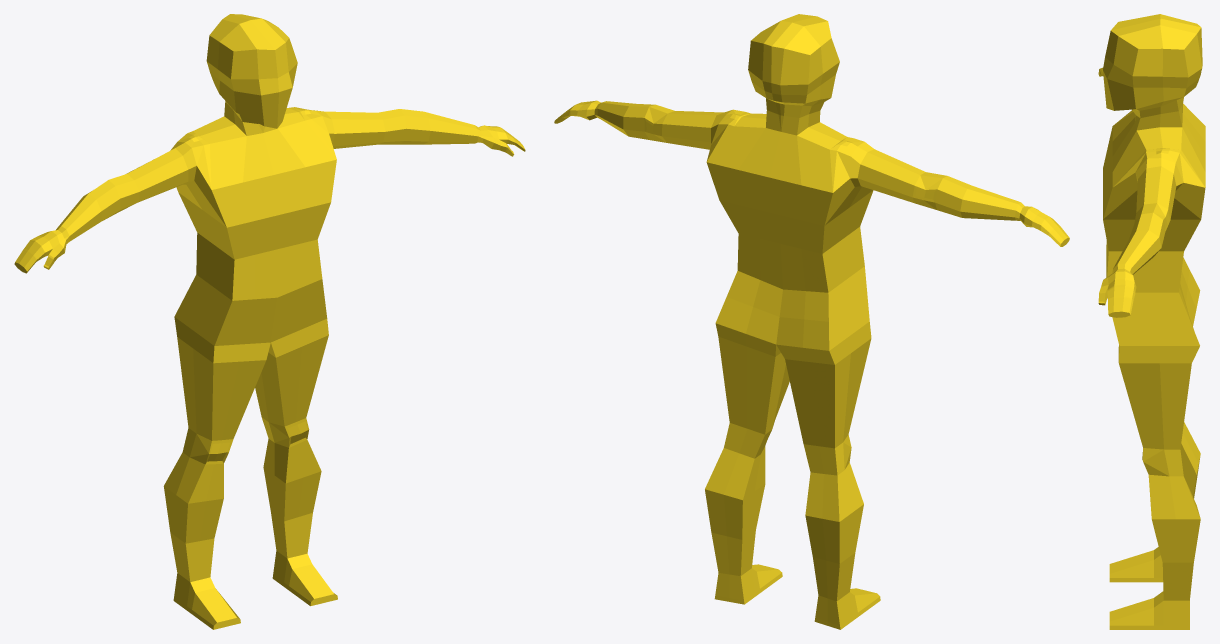
File: MainChar.fbx
3 renders of one model, left to right at view 1: azimuth 30°, elevation 25°; view 2: azimuth 150°, elevation 25°; view 3: azimuth 270°, elevation 25°, orthographic.
Parts seen in each view (by area): view 1: Cube; view 2: Cube; view 3: Cube.
Boxes of the visible parts, x1,y1,x2,y2 form: Cube: [14, 14, 525, 629]; Cube: [554, 14, 1069, 629]; Cube: [1098, 14, 1205, 629].
Bounding box in the file's own units: 407 × 446 × 74.51.
